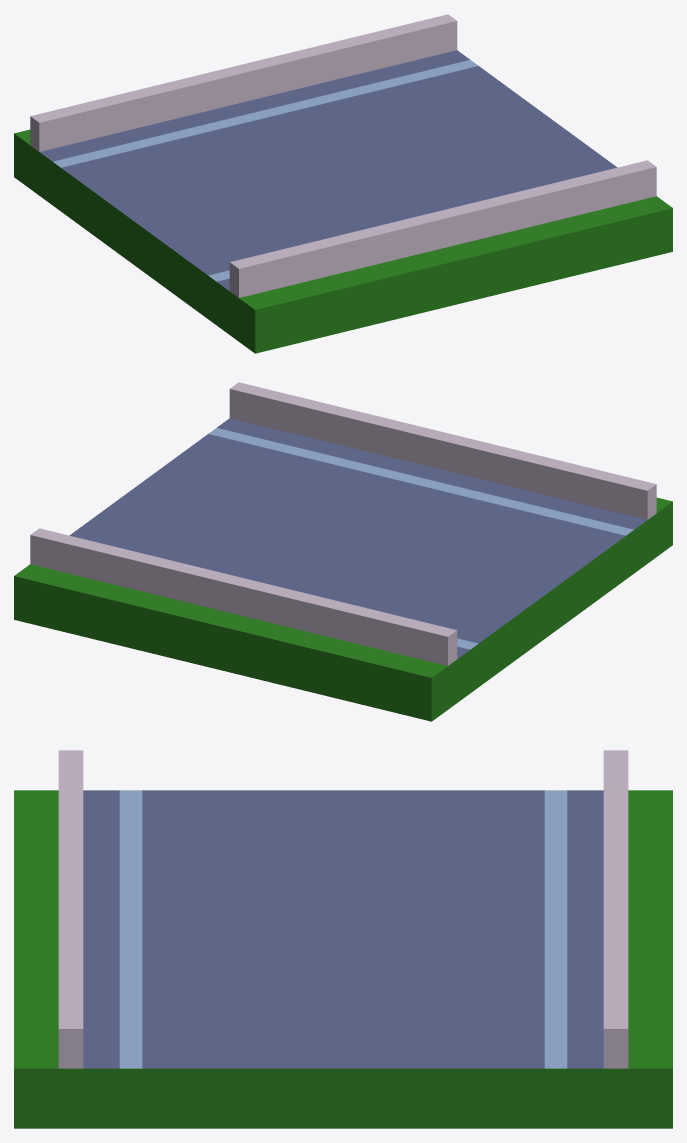
3 views of the same model, one above another, from view 1: azimuth 30°, elevation 25°; view 2: azimuth 150°, elevation 25°; view 3: azimuth 270°, elevation 25° (orthographic). The views are drawn at different scales.
Visible parts, largest first — view 1: Box013; view 2: Box013; view 3: Box013.
Boxes of the visible parts, x1,y1,x2,y2 form: Box013: (14, 14, 672, 353); Box013: (14, 382, 672, 721); Box013: (14, 750, 672, 1128).
Size of the model in its own units: 50.47 by 8.42 by 50.47.
